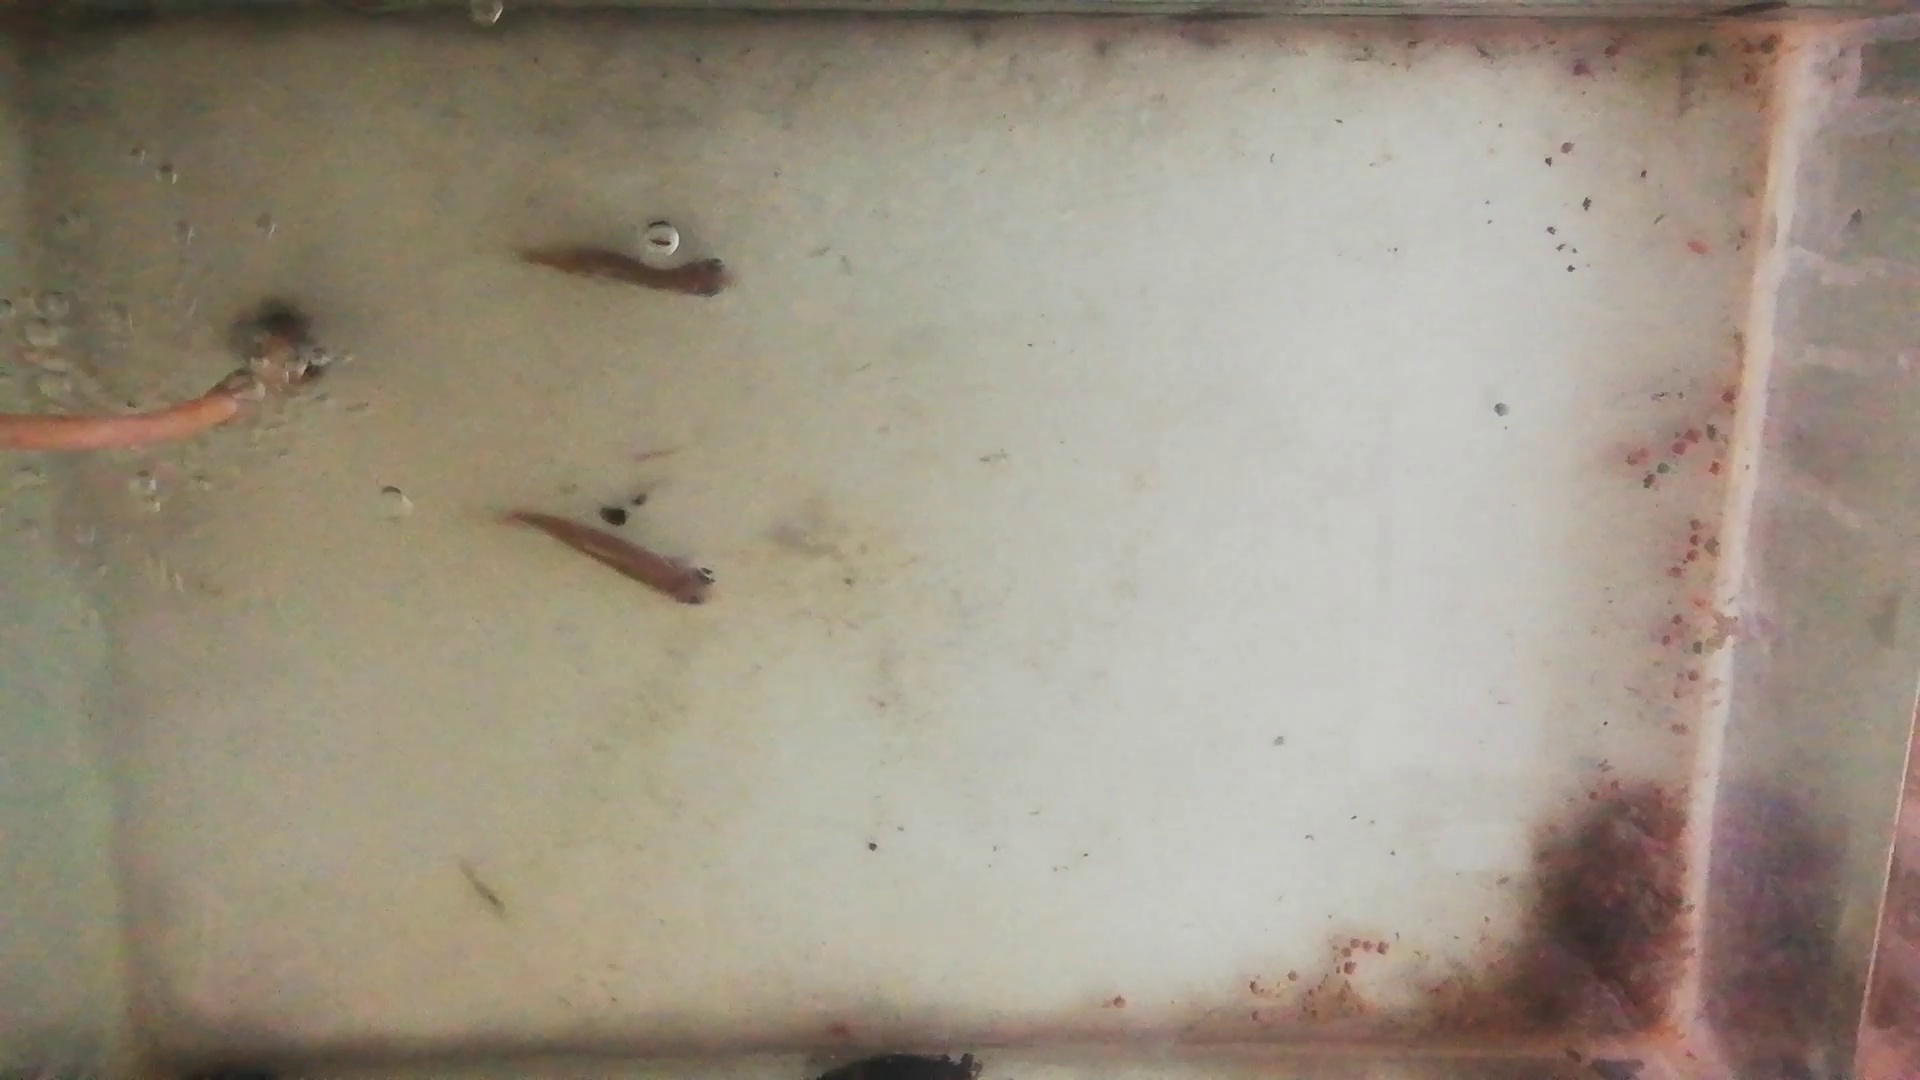fish: (502, 509, 720, 609), (516, 251, 740, 297)
